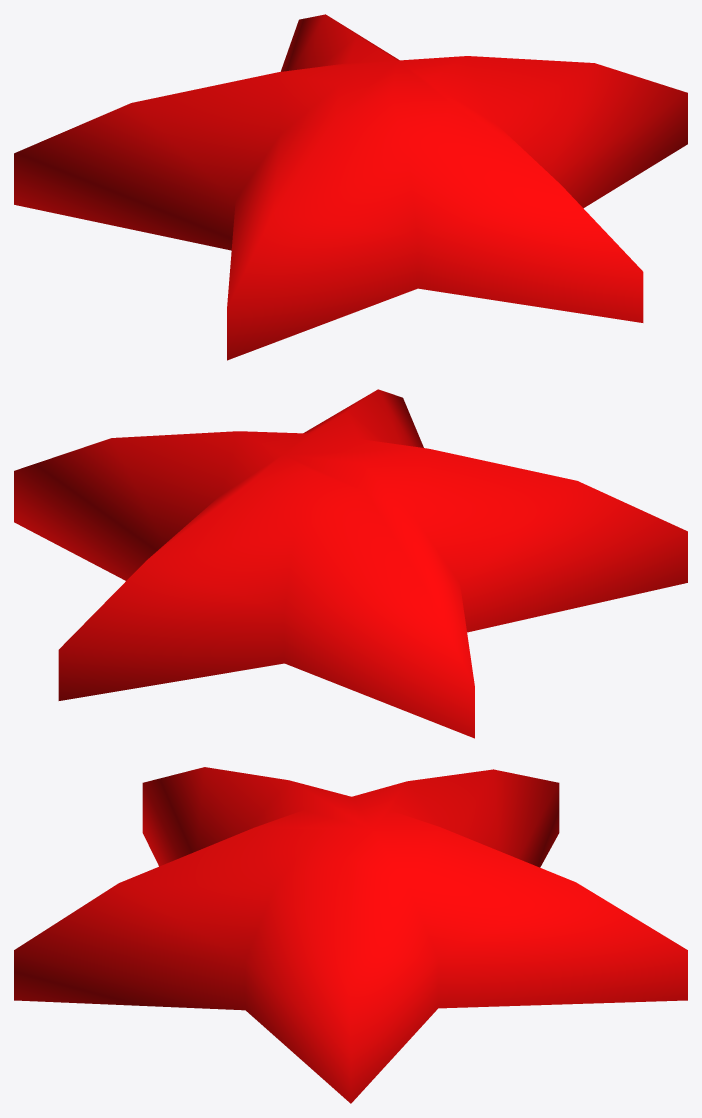
The model's file is SM_Toy_05.fbx.
3 views of the same model, one above another, from view 1: azimuth 30°, elevation 25°; view 2: azimuth 150°, elevation 25°; view 3: azimuth 270°, elevation 25° (orthographic). The views are drawn at different scales.
Visible parts, largest first — view 1: SM_Toy_05; view 2: SM_Toy_05; view 3: SM_Toy_05.
Part boxes in pixels (x1,y1,x2,y2): SM_Toy_05: (14, 14, 687, 360); SM_Toy_05: (14, 389, 687, 738); SM_Toy_05: (14, 767, 687, 1103).
Bounding box in the file's own units: 16.33 × 3.96 × 17.17.
Materials: 1 (1 with a texture image).
